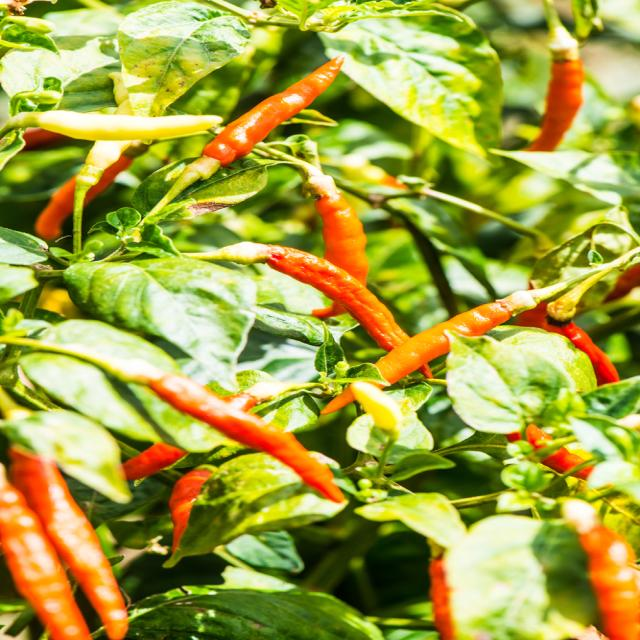Half-Ripe: (7, 110, 222, 140)
Ripe: (151, 375, 339, 499), (11, 445, 127, 639), (0, 465, 91, 639), (202, 60, 343, 164), (269, 246, 409, 350), (375, 302, 509, 381), (316, 193, 367, 284), (123, 443, 186, 479)
